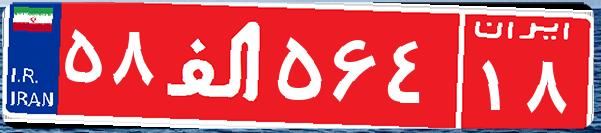1: (475, 38, 525, 113)
4: (385, 28, 445, 110)
5: (273, 28, 330, 110), (57, 26, 110, 107)
6: (330, 28, 385, 110)
8: (110, 28, 158, 105), (525, 38, 570, 115)
الف: (158, 15, 273, 115)
